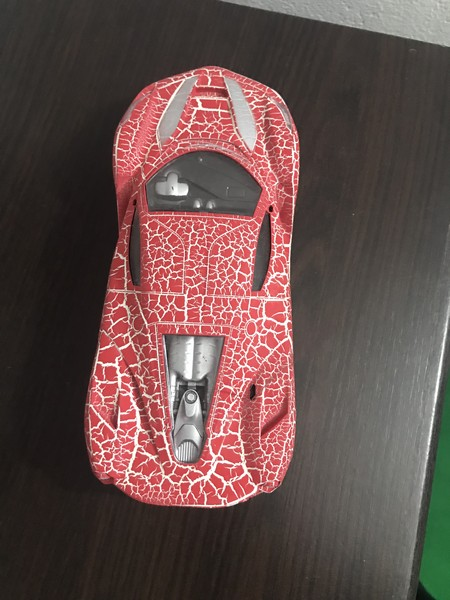RC: (80, 64, 303, 510)
